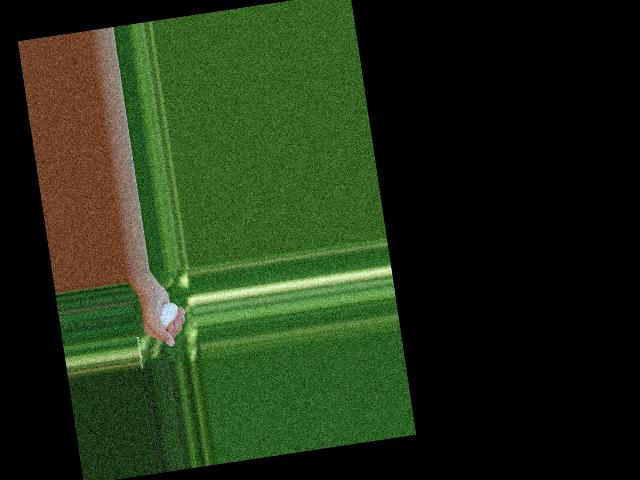egg: (157, 301, 181, 330)
